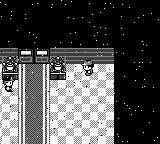leer: (50, 56, 66, 79), (2, 57, 17, 79)
main: (81, 61, 94, 75)
no-caminable: (1, 1, 160, 143), (50, 49, 114, 64), (0, 48, 18, 63)
npc: (2, 76, 15, 91)
puerta: (19, 49, 49, 63)
